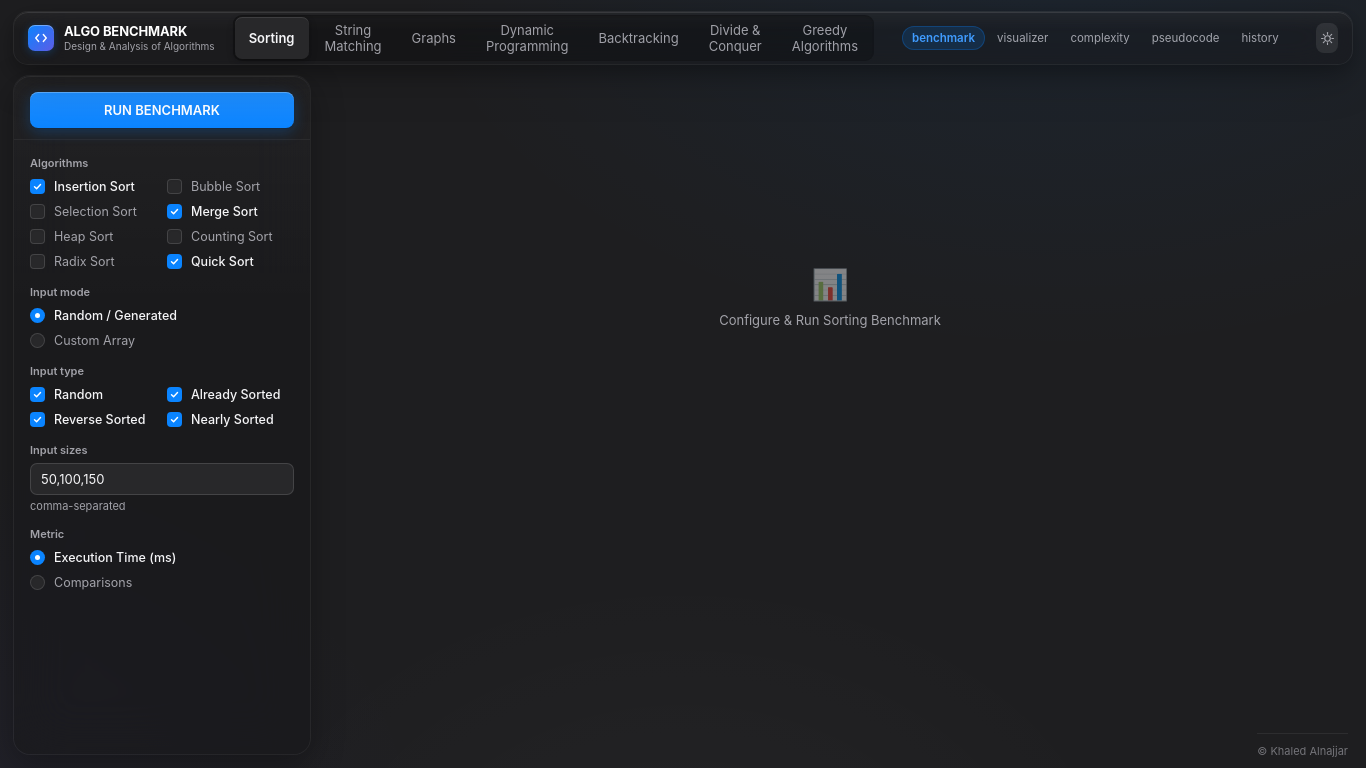
Test: Algo App › surfaces a visible error for pathological inputs instead of silently failing
Type "99999999" into the field with placeholder "50,100,150" at (162, 479), box [30,463,294,495]
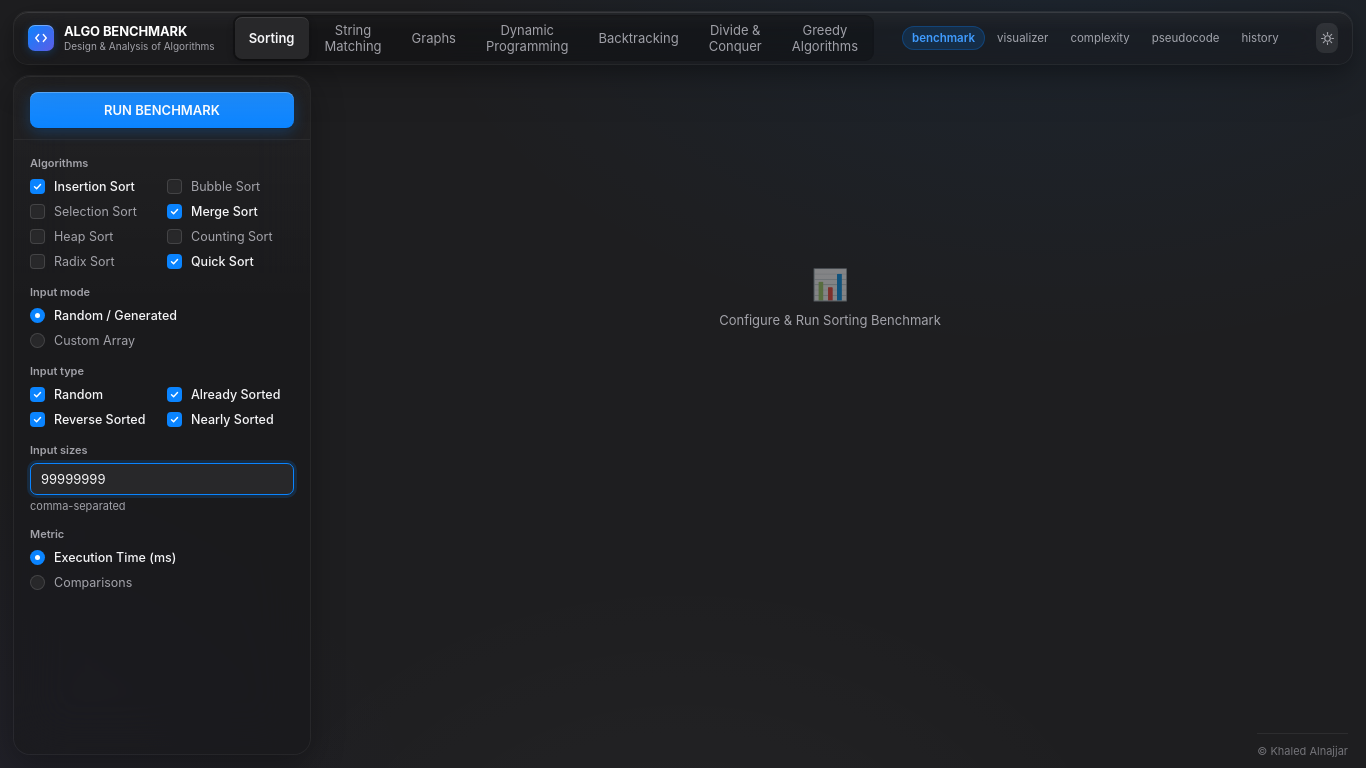
Click the button "RUN BENCHMARK" at (162, 110), box [30,92,294,128]
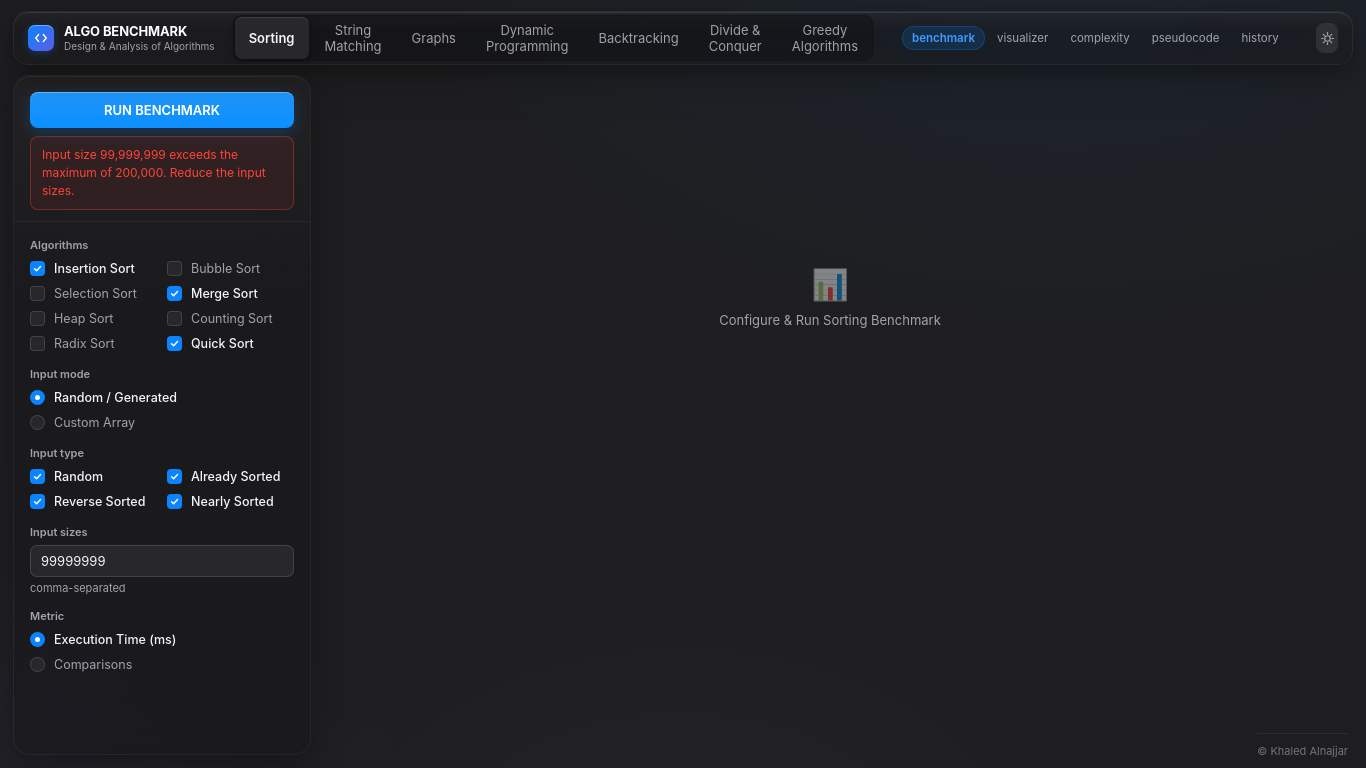
Expected: the message "Input size 99,999,999 exceeds the maximum of 200,000. Reduce the input sizes." is shown, [30,136,294,210]
